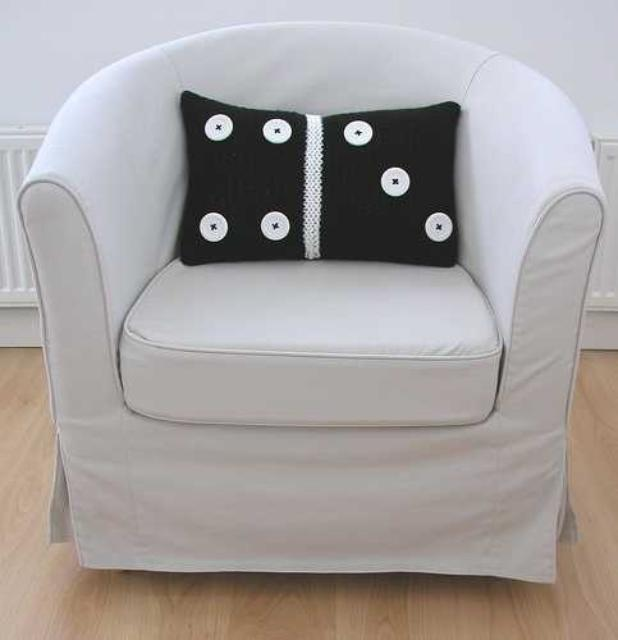pillow: (176, 89, 462, 268)
